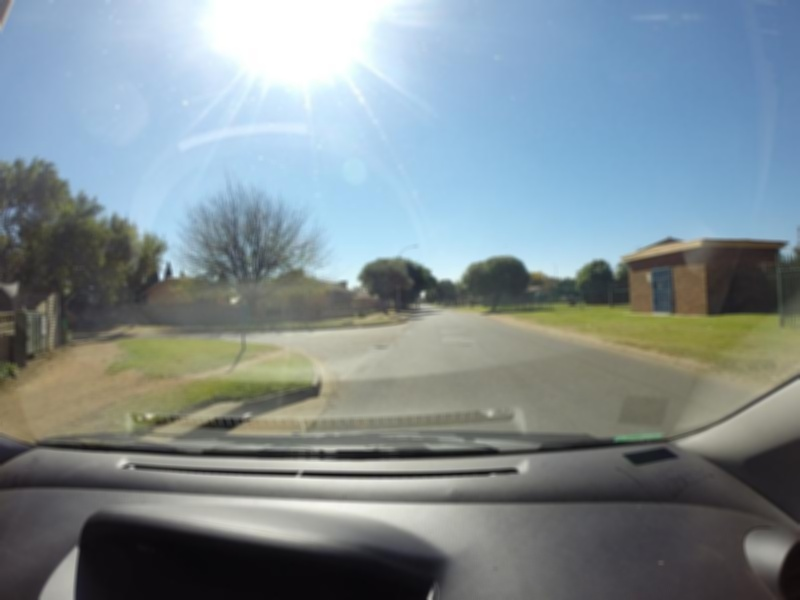pothole: (377, 342, 390, 351), (462, 342, 476, 346)
